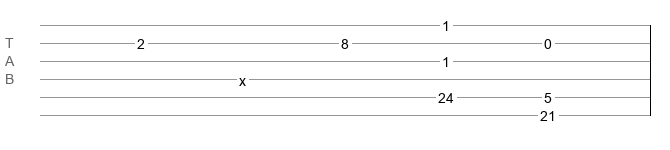0: (544, 36, 552, 46)
1: (442, 54, 450, 64), (442, 18, 450, 28)
2: (137, 36, 145, 46)
21: (540, 108, 556, 118)
24: (438, 90, 454, 100)
5: (544, 90, 552, 100)
8: (341, 36, 349, 46)
x: (239, 73, 246, 81)
